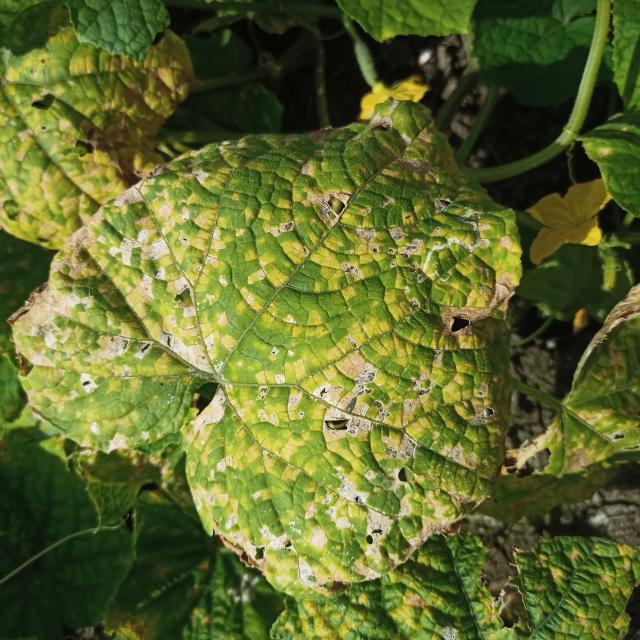disease_cucumber: (50, 122, 511, 582), (0, 16, 188, 237)
